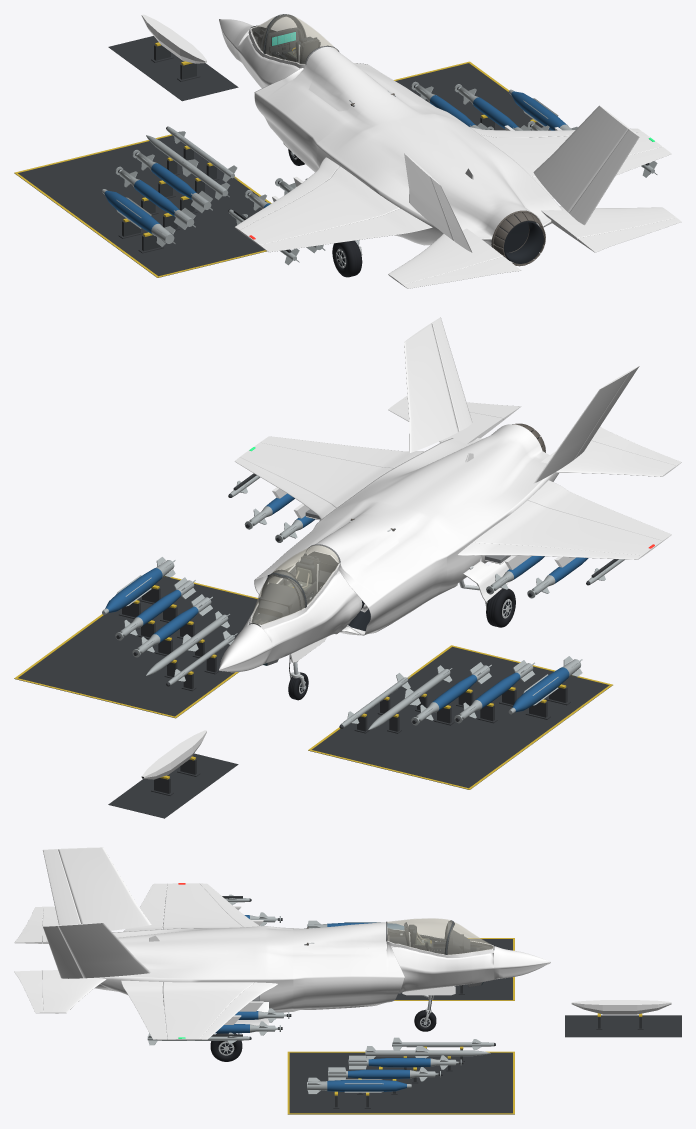
Rendered from f35b-hangar.glb.
3 views of the same model, one above another, from view 1: azimuth 30°, elevation 25°; view 2: azimuth 150°, elevation 25°; view 3: azimuth 270°, elevation 25° (orthographic). The views are drawn at different scales.
Visible parts, largest first — view 1: Web_Static_Web_Aircraft_F35B, Web_Loadout | hangar display stores and stands, Web_Static_Web_Rig_L_tail, Web_Static_Web_Rig_R_tail, Web_Static_Web_Rig_Canopy, Web_Airframe | Wing L trailing flaperon, Web_Static_Web_Rig_LiftFan_Door, Web_Static_Web_Rig_Vector_Nozzle, Web_Airframe | R rudder, Web_Loadout | hardpoint stores and pylons, Web_Airframe | Wing L leading-edge flap, Web_Static_Web_Rig_WheelSpin_Main_L (+3 smaller); view 2: Web_Static_Web_Aircraft_F35B, Web_Loadout | hangar display stores and stands, Web_Static_Web_Rig_Canopy, Web_Loadout | hardpoint stores and pylons, Web_Static_Web_Rig_L_tail, Web_Airframe | Wing L trailing flaperon, Web_Airframe | Wing R trailing flaperon, Web_Static_Web_Rig_LiftFan_Door, Web_Static_Web_Rig_R_tail, Web_Airframe | Wing L leading-edge flap, Web_Airframe | R rudder, Web_Airframe | Wing R leading-edge flap (+2 smaller); view 3: Web_Static_Web_Aircraft_F35B, Web_Loadout | hangar display stores and stands, Web_Static_Web_Rig_Canopy, Web_Static_Web_Rig_R_tail, Web_Loadout | hardpoint stores and pylons, Web_Static_Web_Rig_LiftFan_Door, Web_Airframe | Wing R trailing flaperon, Web_Airframe | L rudder, Web_Airframe | R rudder, Web_Static_Web_Rig_L_tail, Web_Airframe | Wing L trailing flaperon, Web_Airframe | Wing R leading-edge flap (+2 smaller).
Boxes of the visible parts, x1,y1,x2,y2 form: Web_Static_Web_Aircraft_F35B: [219, 19, 662, 262]; Web_Loadout | hangar display stores and stands: [14, 14, 577, 277]; Web_Static_Web_Rig_L_tail: [388, 228, 521, 288]; Web_Static_Web_Rig_R_tail: [541, 206, 681, 252]; Web_Static_Web_Rig_Canopy: [248, 14, 339, 68]; Web_Airframe | Wing L trailing flaperon: [260, 208, 432, 252]; Web_Static_Web_Rig_LiftFan_Door: [308, 56, 397, 111]; Web_Static_Web_Rig_Vector_Nozzle: [491, 210, 545, 266]; Web_Airframe | R rudder: [569, 129, 639, 225]; Web_Loadout | hardpoint stores and pylons: [228, 121, 657, 265]; Web_Airframe | Wing L leading-edge flap: [234, 157, 339, 230]; Web_Static_Web_Rig_WheelSpin_Main_L: [332, 240, 362, 277]; Web_Static_Web_Aircraft_F35B: [219, 323, 662, 672]; Web_Loadout | hangar display stores and stands: [14, 557, 612, 818]; Web_Static_Web_Rig_Canopy: [249, 544, 340, 629]; Web_Loadout | hardpoint stores and pylons: [228, 473, 624, 598]; Web_Static_Web_Rig_L_tail: [541, 427, 681, 476]; Web_Airframe | Wing L trailing flaperon: [528, 480, 671, 541]; Web_Airframe | Wing R trailing flaperon: [260, 436, 424, 467]; Web_Static_Web_Rig_LiftFan_Door: [321, 519, 398, 564]; Web_Static_Web_Rig_R_tail: [388, 395, 521, 443]; Web_Airframe | Wing L leading-edge flap: [457, 542, 642, 559]; Web_Airframe | R rudder: [431, 317, 472, 431]; Web_Airframe | Wing R leading-edge flap: [234, 457, 336, 519]; Web_Static_Web_Aircraft_F35B: [58, 847, 550, 1040]; Web_Loadout | hangar display stores and stands: [287, 920, 681, 1114]; Web_Static_Web_Rig_Canopy: [386, 918, 494, 957]; Web_Static_Web_Rig_R_tail: [14, 970, 106, 1013]; Web_Loadout | hardpoint stores and pylons: [147, 894, 291, 1045]; Web_Static_Web_Rig_LiftFan_Door: [307, 923, 369, 954]; Web_Airframe | Wing R trailing flaperon: [121, 980, 167, 1039]; Web_Airframe | L rudder: [43, 849, 80, 925]; Web_Airframe | R rudder: [43, 925, 83, 978]; Web_Static_Web_Rig_L_tail: [14, 906, 58, 943]; Web_Airframe | Wing L trailing flaperon: [123, 883, 167, 931]; Web_Airframe | Wing R leading-edge flap: [199, 982, 277, 1039].
Bounding box in the file's own units: 12.1 × 4.67 × 19.4.
